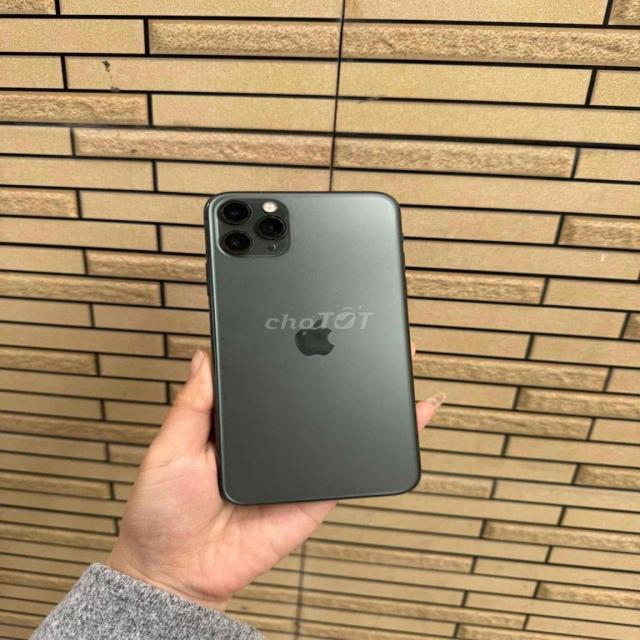scratch: (217, 194, 290, 254)
